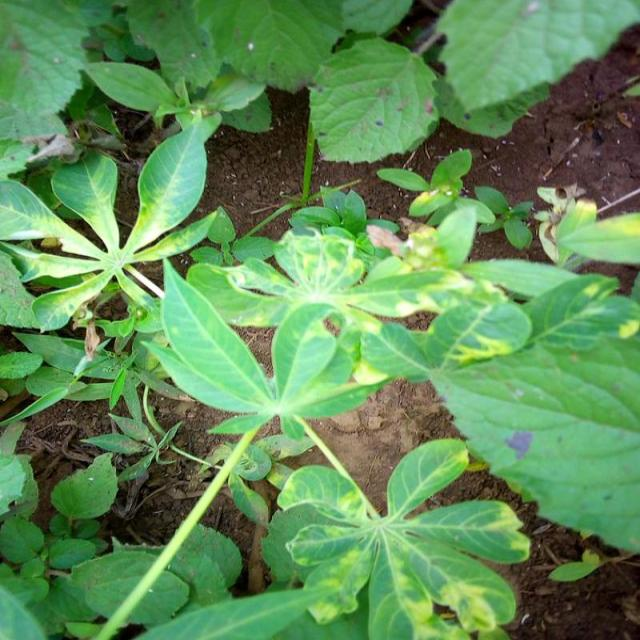cassava leaf: (0, 1, 638, 637), (426, 261, 638, 555), (307, 35, 440, 164)
